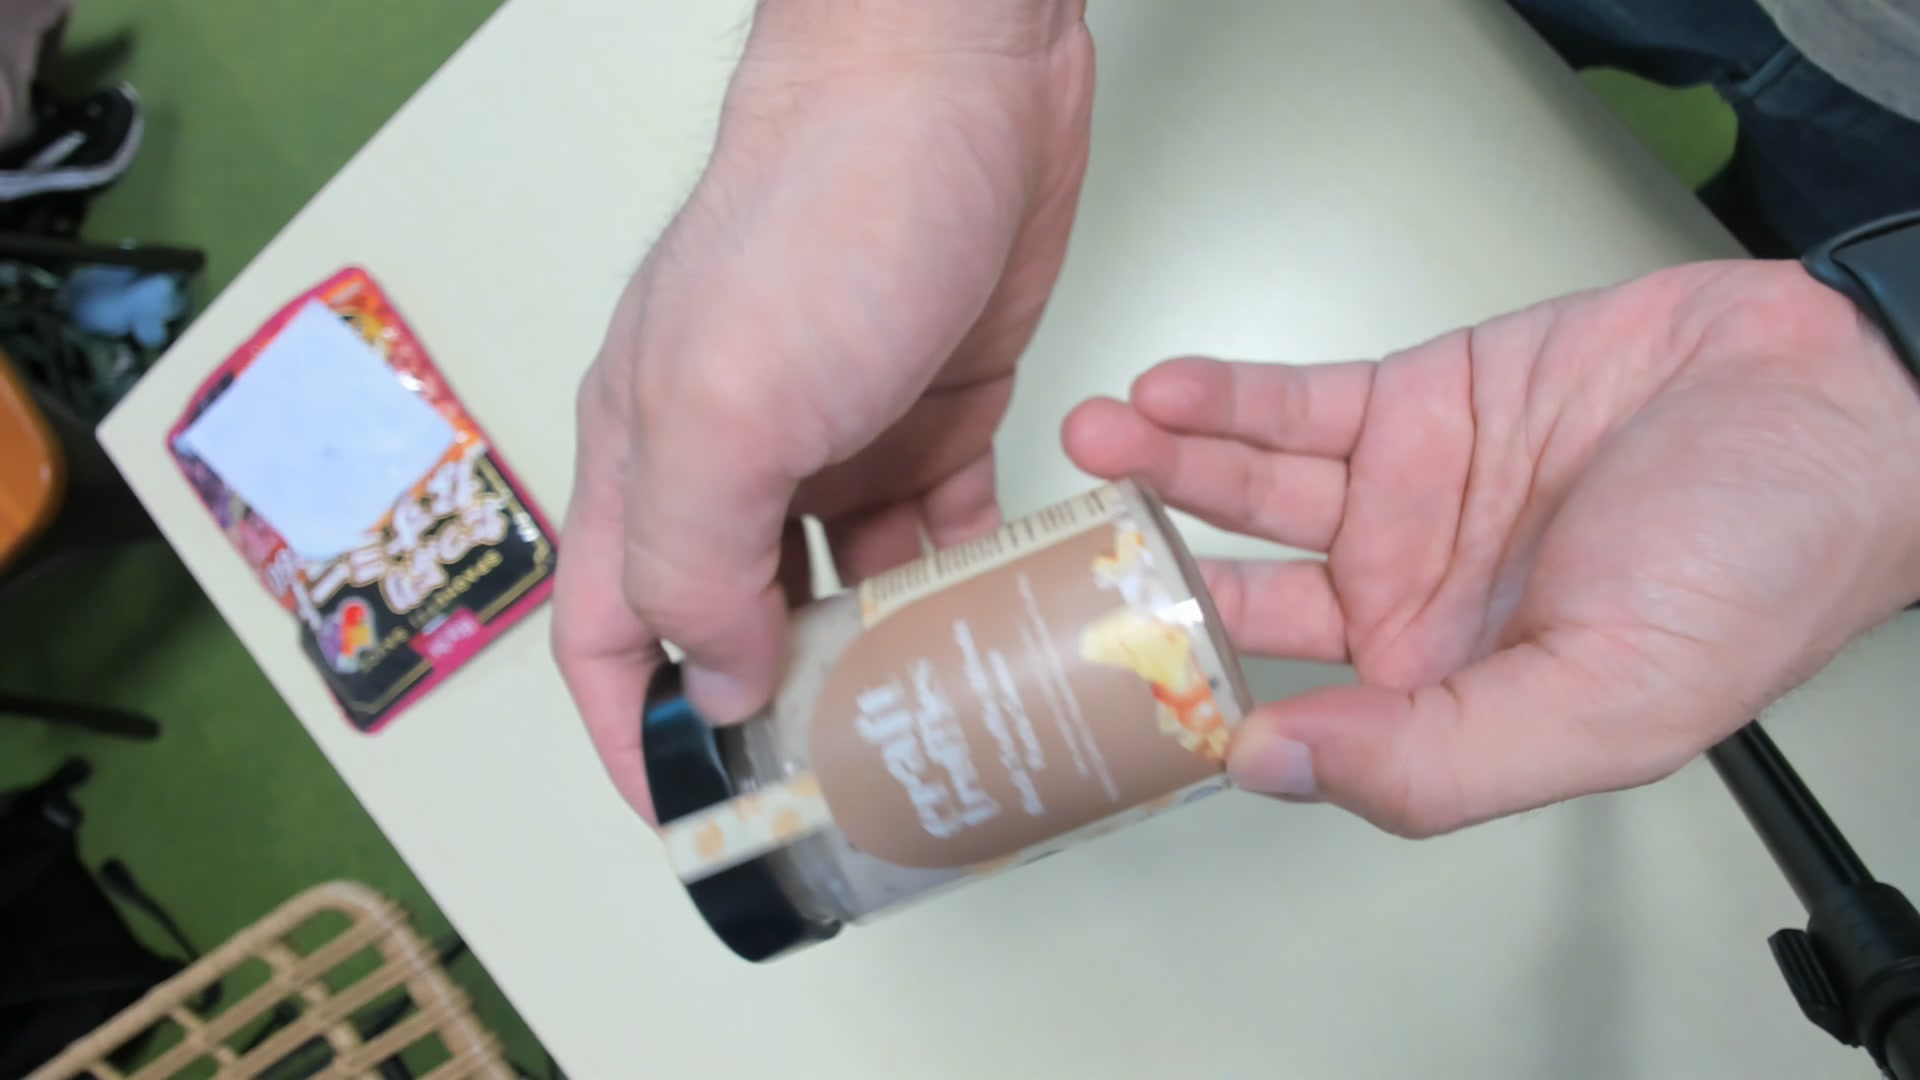PastaSauce_100-199g_Halal_NonHealthy: (634, 488, 1259, 971)
